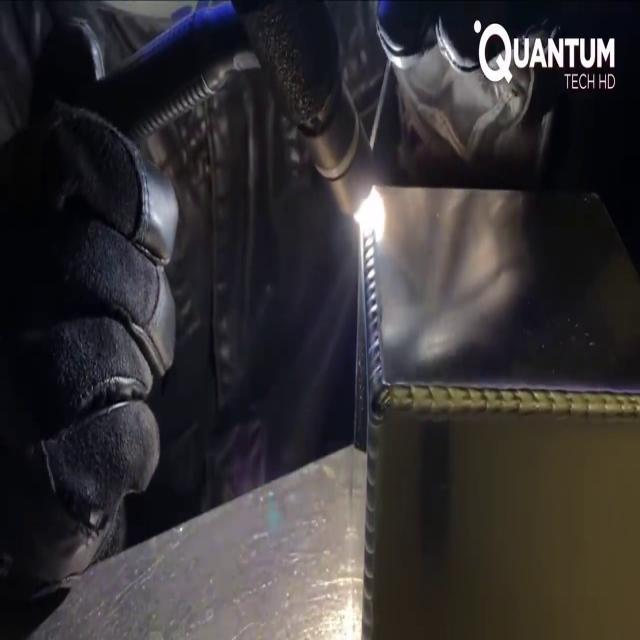Good Weld: (394, 377, 640, 416), (362, 236, 386, 402), (366, 414, 382, 634)
